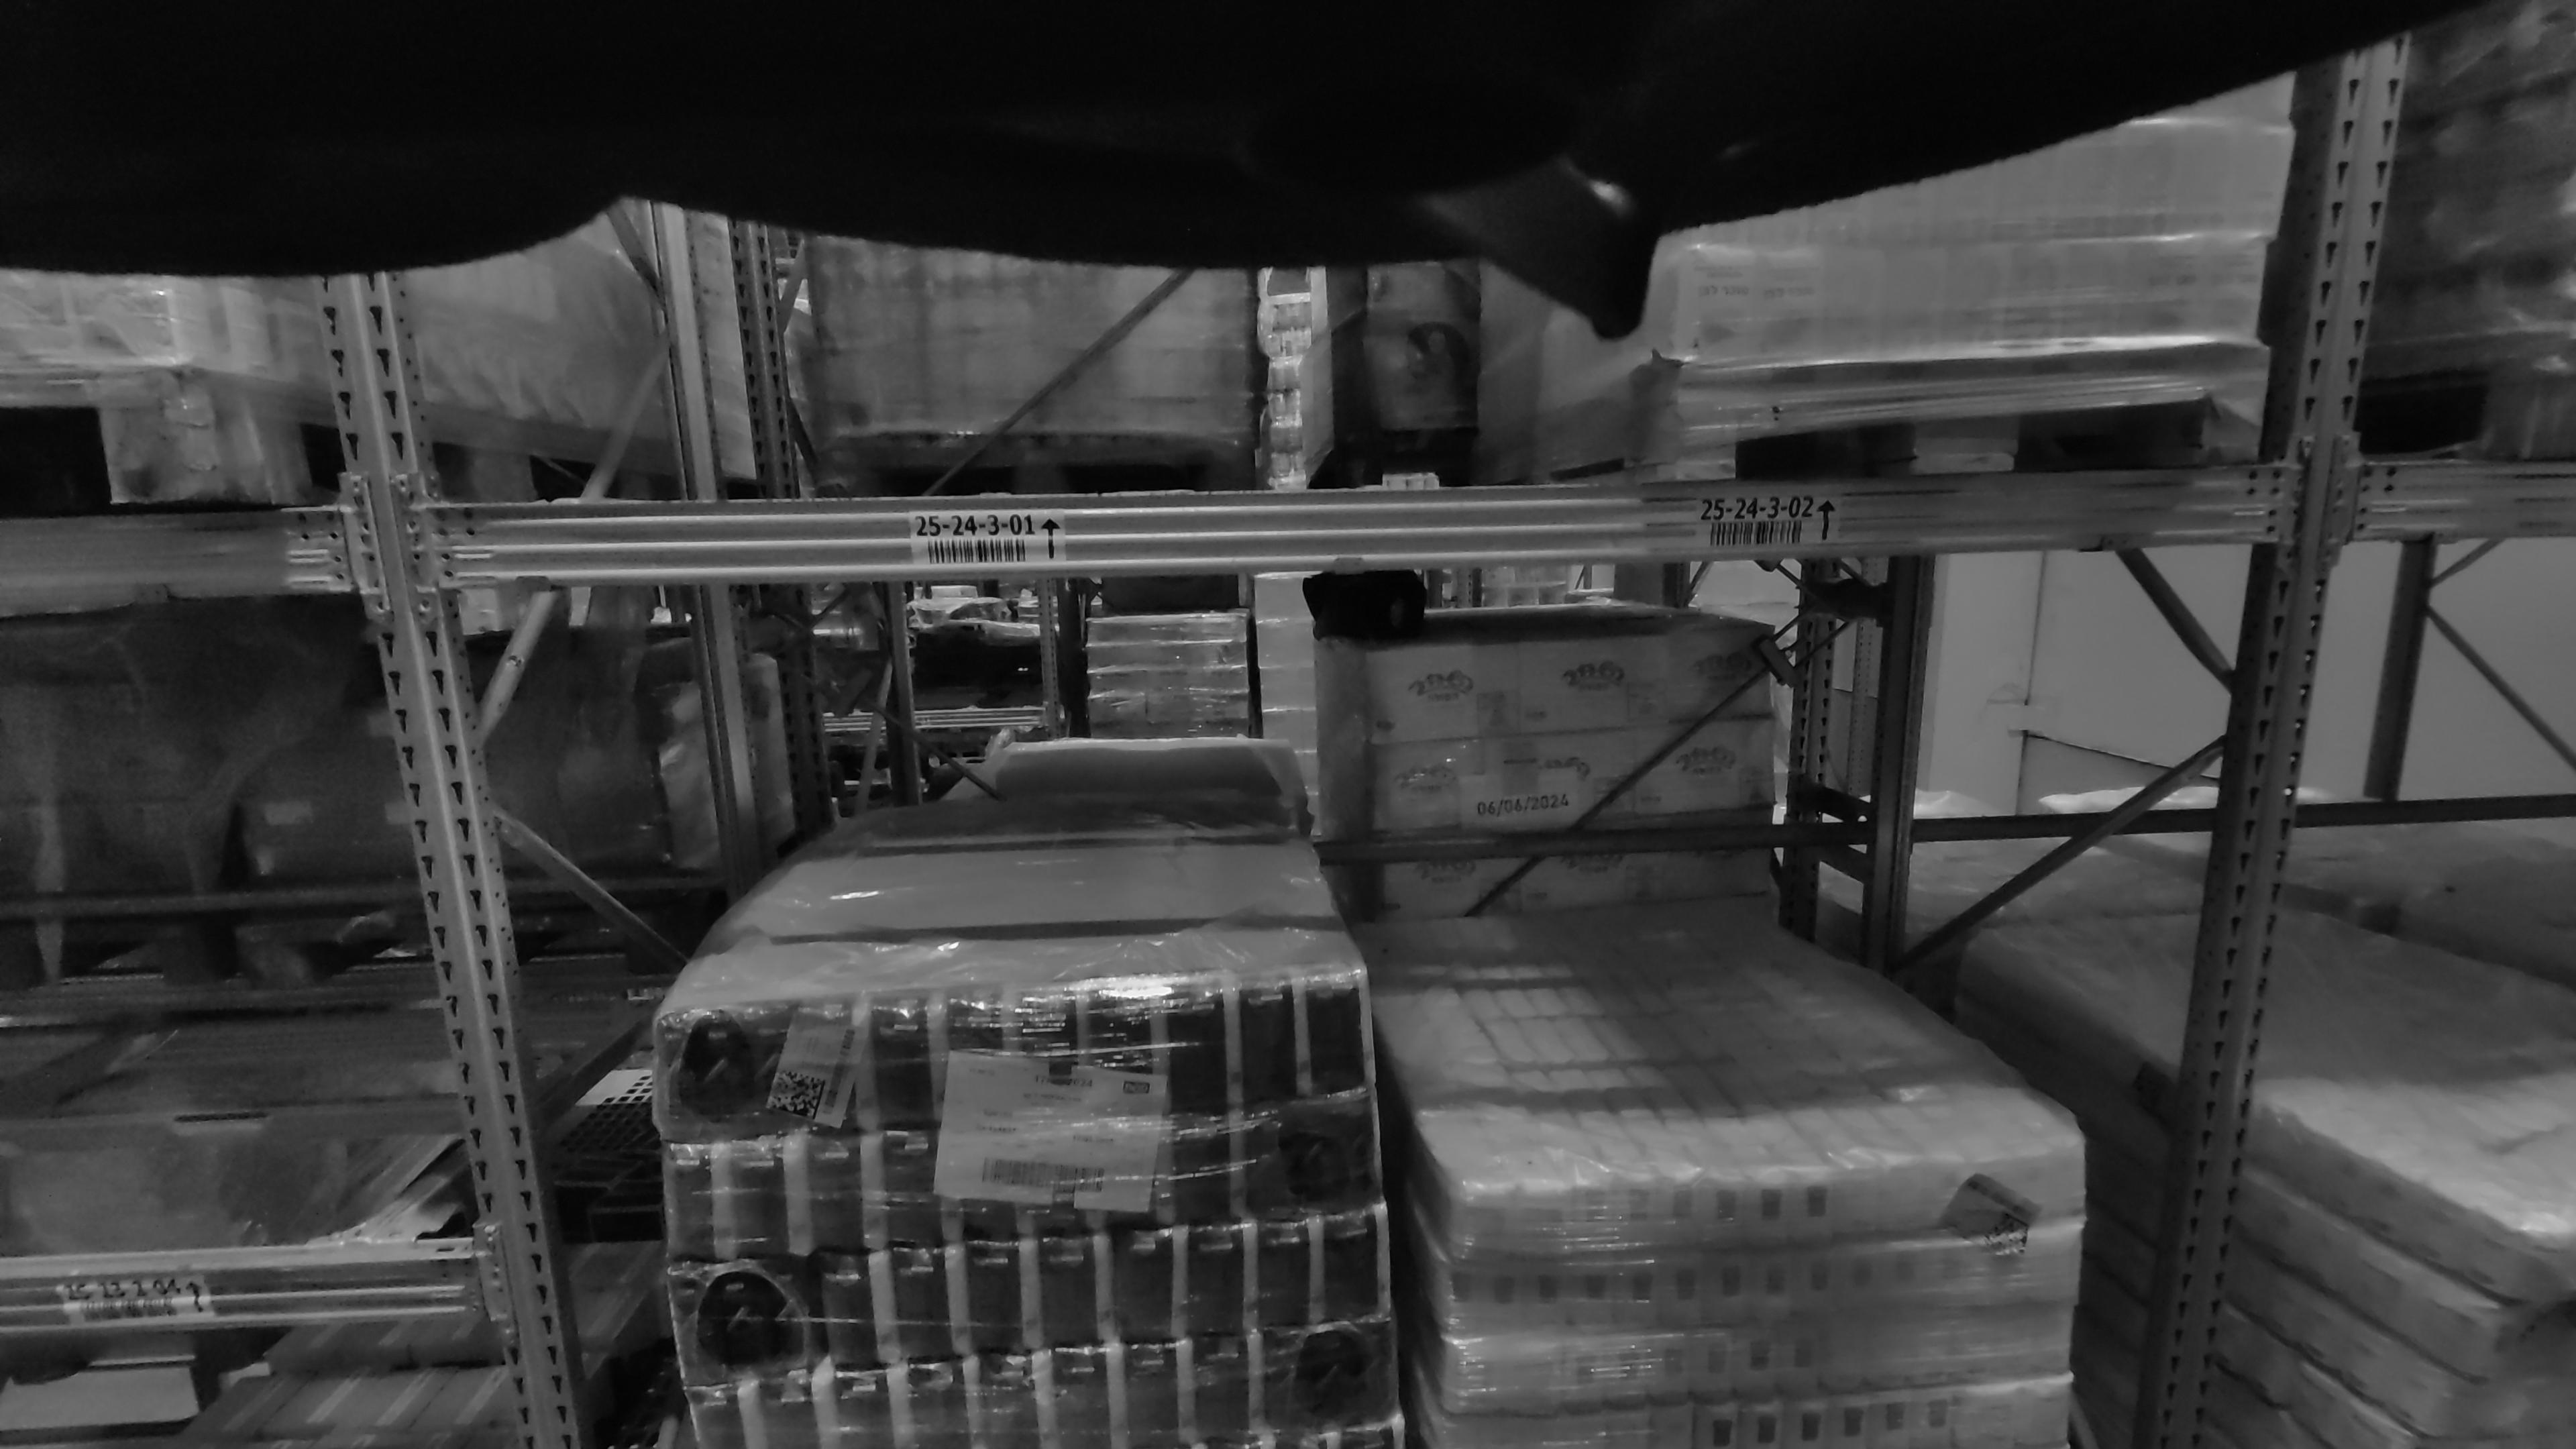empty-shelf: (501, 214, 1412, 501), (0, 617, 403, 1254)
